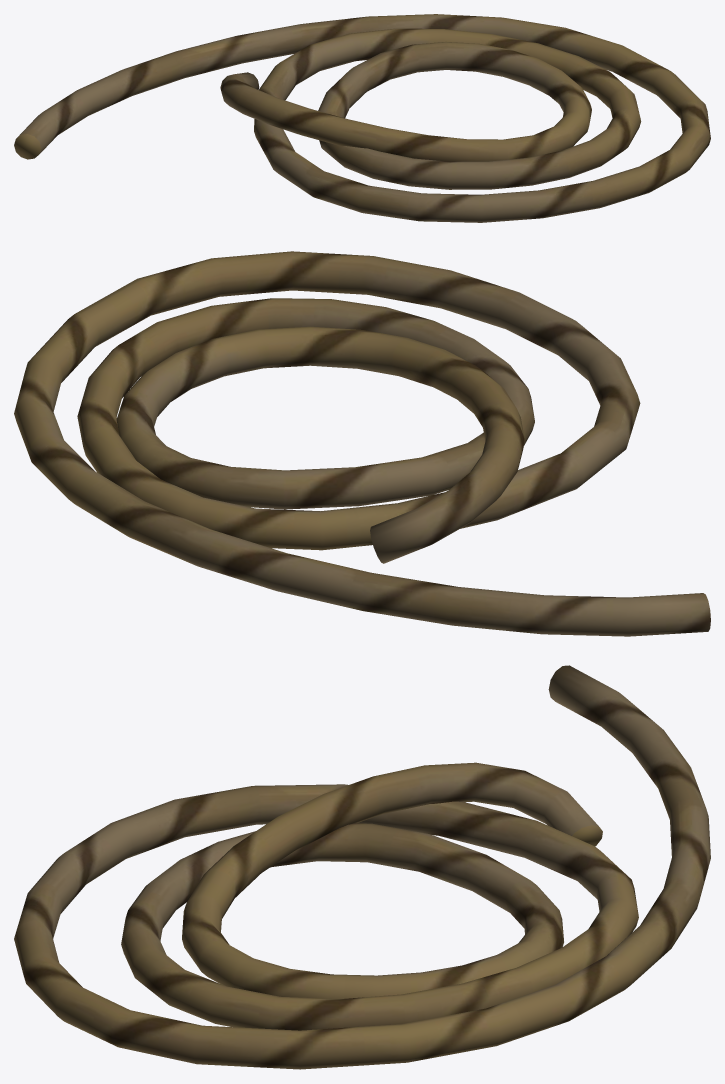
Rendered from rope_3.gltf.
3 views of the same model, one above another, from view 1: azimuth 30°, elevation 25°; view 2: azimuth 150°, elevation 25°; view 3: azimuth 270°, elevation 25° (orthographic). The views are drawn at different scales.
Visible parts, largest first — view 1: Rope_3; view 2: Rope_3; view 3: Rope_3.
Boxes of the visible parts, x1,y1,x2,y2 form: Rope_3: (14,14,710,222); Rope_3: (14,251,710,636); Rope_3: (14,665,710,1069).
Size of the model in its own units: 1.23 by 0.1018 by 0.9508.
Materials: 1 (1 with a texture image).
